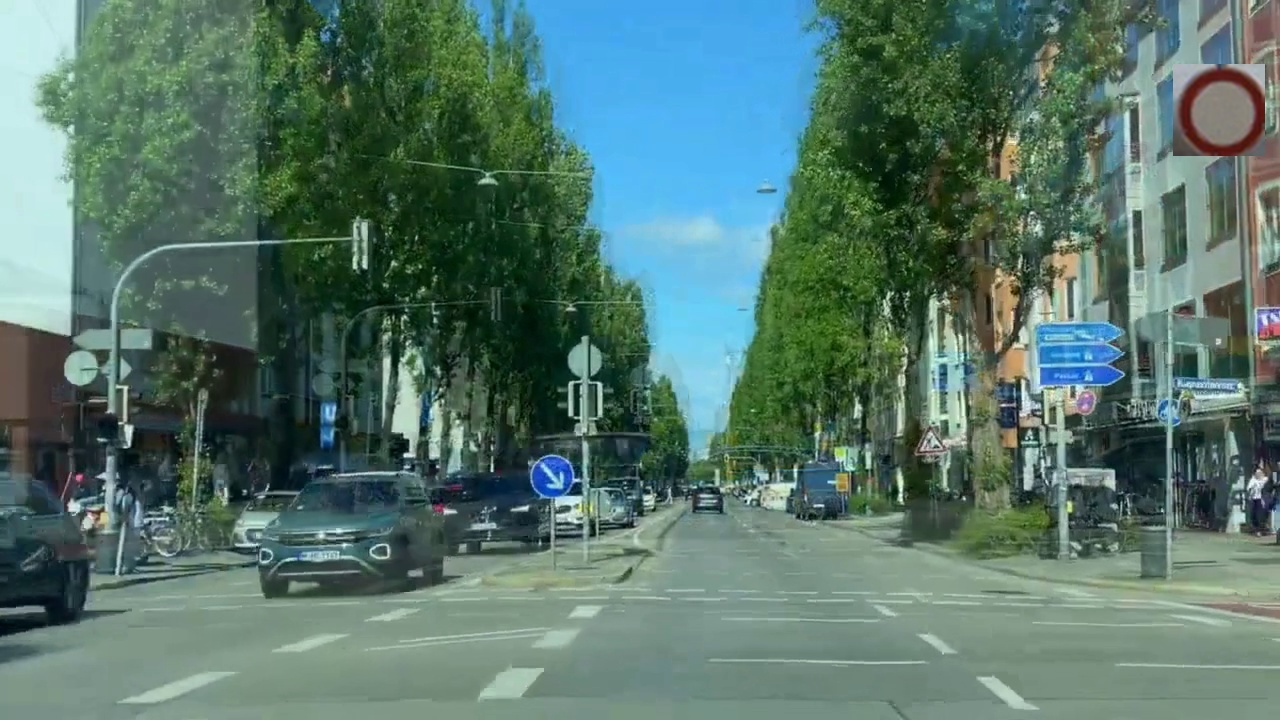No vehicles: (1173, 64, 1265, 156)
